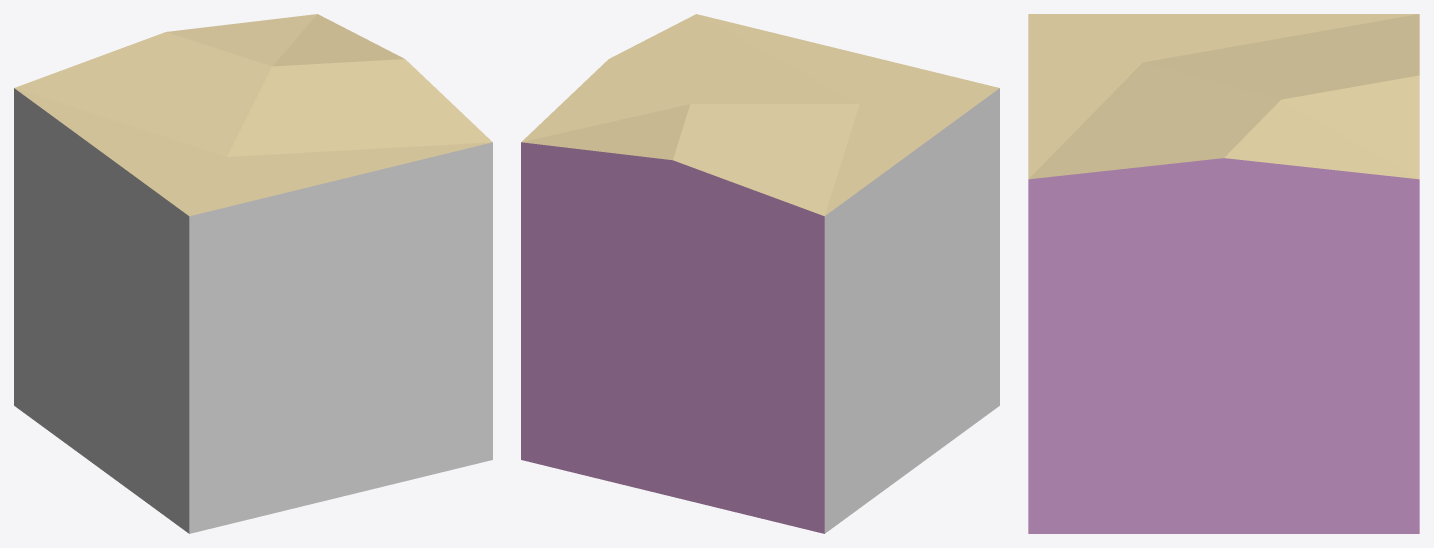
Rendered from Tiered_Walkway_Path_Transition_Curve_Inner_1x1.glb.
The picture shows the model from 3 angles, left to right: view 1: azimuth 30°, elevation 25°; view 2: azimuth 150°, elevation 25°; view 3: azimuth 270°, elevation 25°; orthographic projection. The views are drawn at different scales.
Visible parts, largest first — view 1: Tiered_Walkway_Path_Transition_Curve_Inner_1x1; view 2: Tiered_Walkway_Path_Transition_Curve_Inner_1x1; view 3: Tiered_Walkway_Path_Transition_Curve_Inner_1x1.
Part boxes in pixels (bbox=[...]): Tiered_Walkway_Path_Transition_Curve_Inner_1x1: bbox=[14, 14, 492, 533]; Tiered_Walkway_Path_Transition_Curve_Inner_1x1: bbox=[521, 14, 999, 533]; Tiered_Walkway_Path_Transition_Curve_Inner_1x1: bbox=[1028, 14, 1419, 533].
Bounding box in the file's own units: 100 × 106 × 100.
